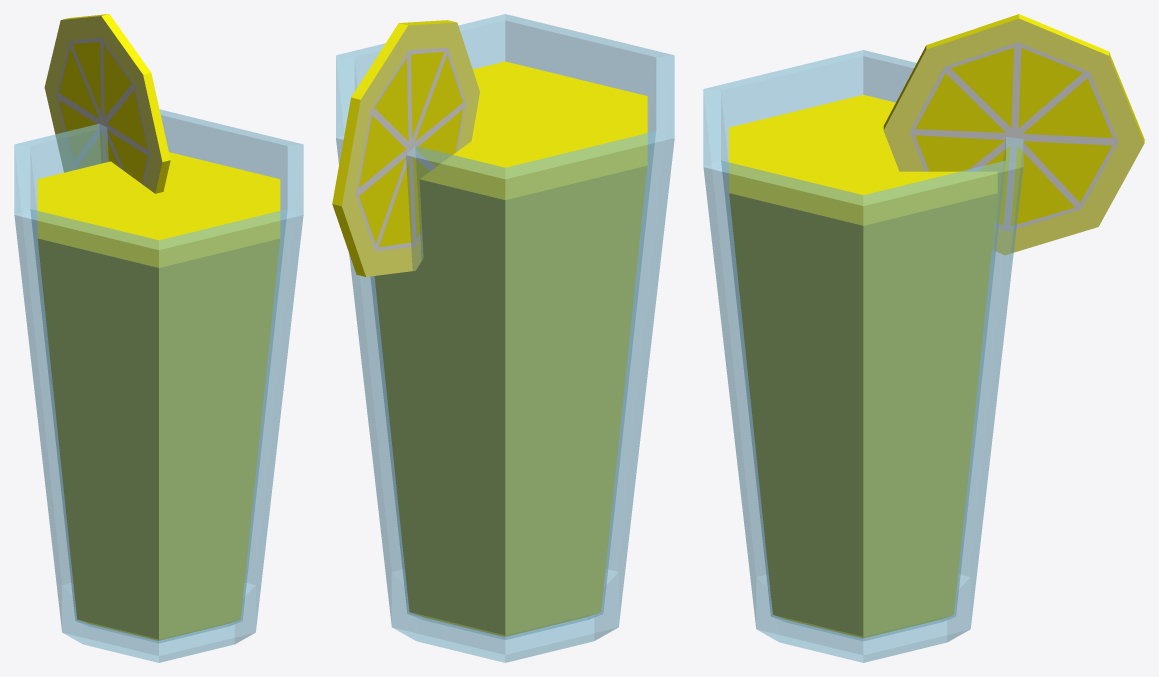
File: PW_lemonade.fbx
The picture shows the model from 3 angles, left to right: view 1: azimuth 30°, elevation 25°; view 2: azimuth 150°, elevation 25°; view 3: azimuth 270°, elevation 25°; orthographic projection. The views are drawn at different scales.
Parts seen in each view (by area): view 1: glass, juice, lemon; view 2: glass, juice, lemon; view 3: glass, juice, lemon.
Part boxes in pixels (x1,y1,x2,y2): glass: [14, 109, 303, 662]; juice: [37, 152, 280, 640]; lemon: [44, 14, 170, 193]; glass: [336, 14, 674, 662]; juice: [375, 61, 647, 636]; lemon: [332, 20, 479, 276]; glass: [703, 50, 1023, 662]; juice: [729, 95, 997, 638]; lemon: [883, 14, 1144, 254].
Size of the model in its own units: 0.1972 by 0.362 by 0.2354.
